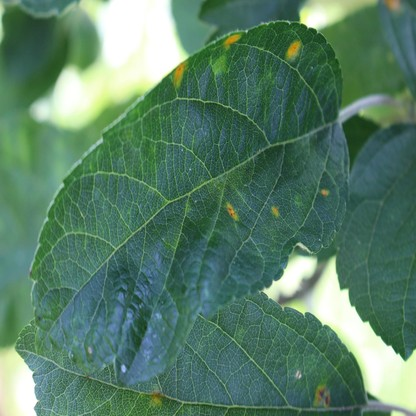rust: (314, 384, 330, 408), (286, 38, 302, 58), (173, 60, 186, 84), (151, 386, 163, 407), (224, 32, 242, 44), (226, 203, 237, 221), (386, 0, 399, 11), (270, 205, 278, 216), (321, 187, 330, 195)
